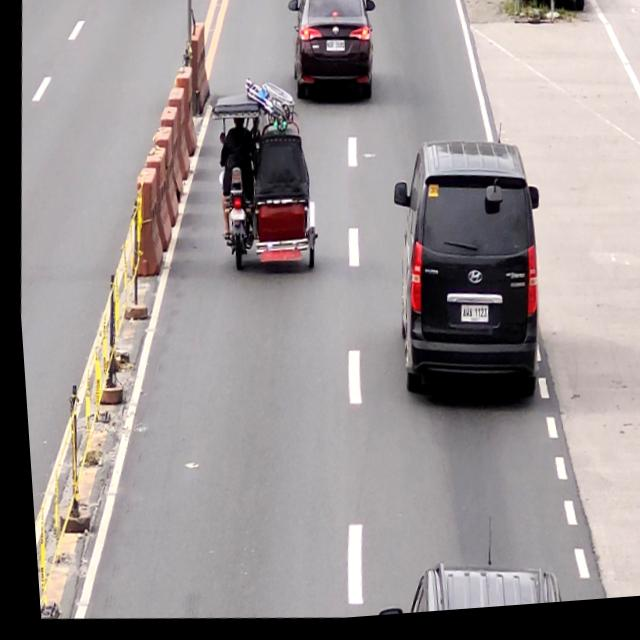Car: (374, 140, 551, 424), (279, 0, 382, 112)
License-Plate: (455, 309, 485, 331), (324, 43, 344, 58), (225, 209, 242, 224)
Tricycle: (203, 93, 325, 286)
